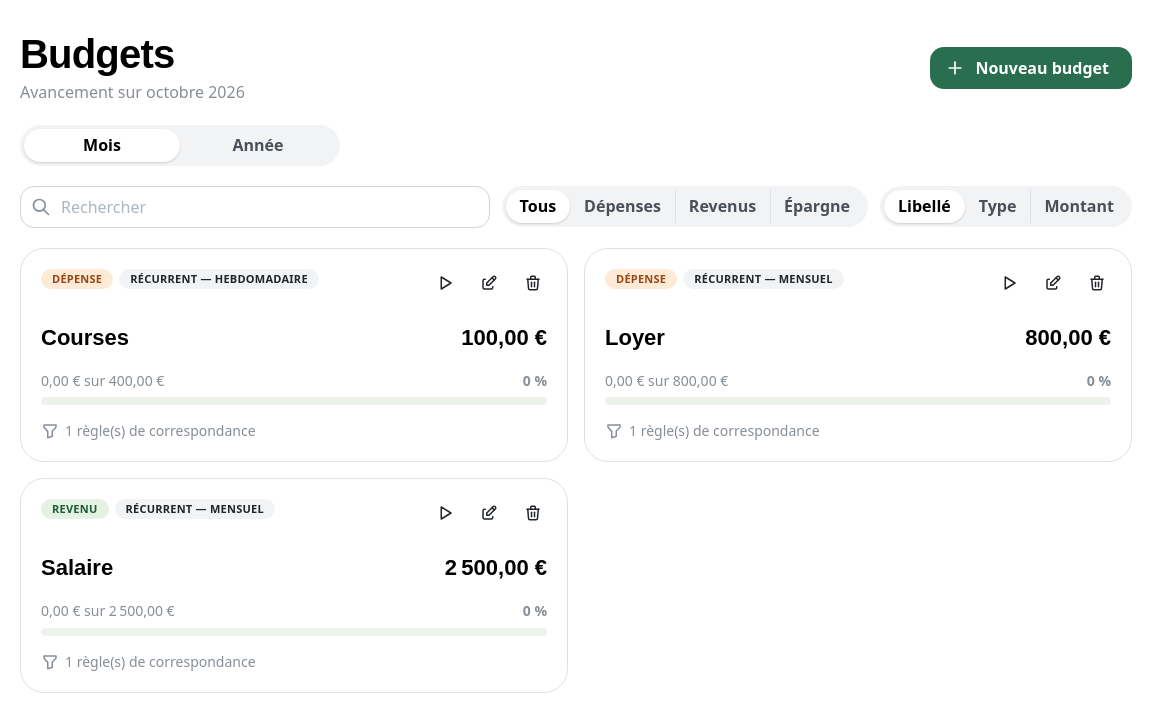
Test case: BudgetsPage › renders search input and filters budgets
expect the link "Loyer" is shown: met, box [605,325,665,350]
expect the link "Courses" is shown: met, box [41,325,129,350]
Note: Type in the search input
Type "loy" into the field with placeholder "Rechercher". click: (255, 207)
box: [20,186,490,228]
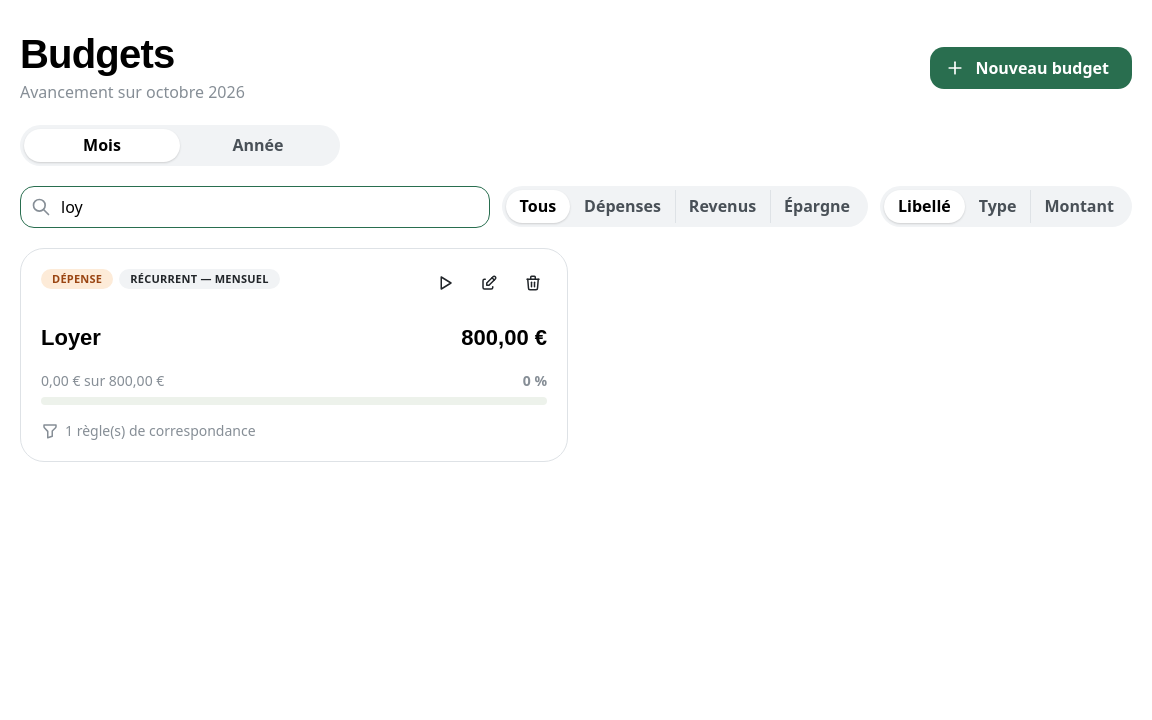
expect the link "Loyer" is shown: met, box [41,325,101,350]
expect the link "Courses" is gone: met
expect the link "Salaire" is gone: met
